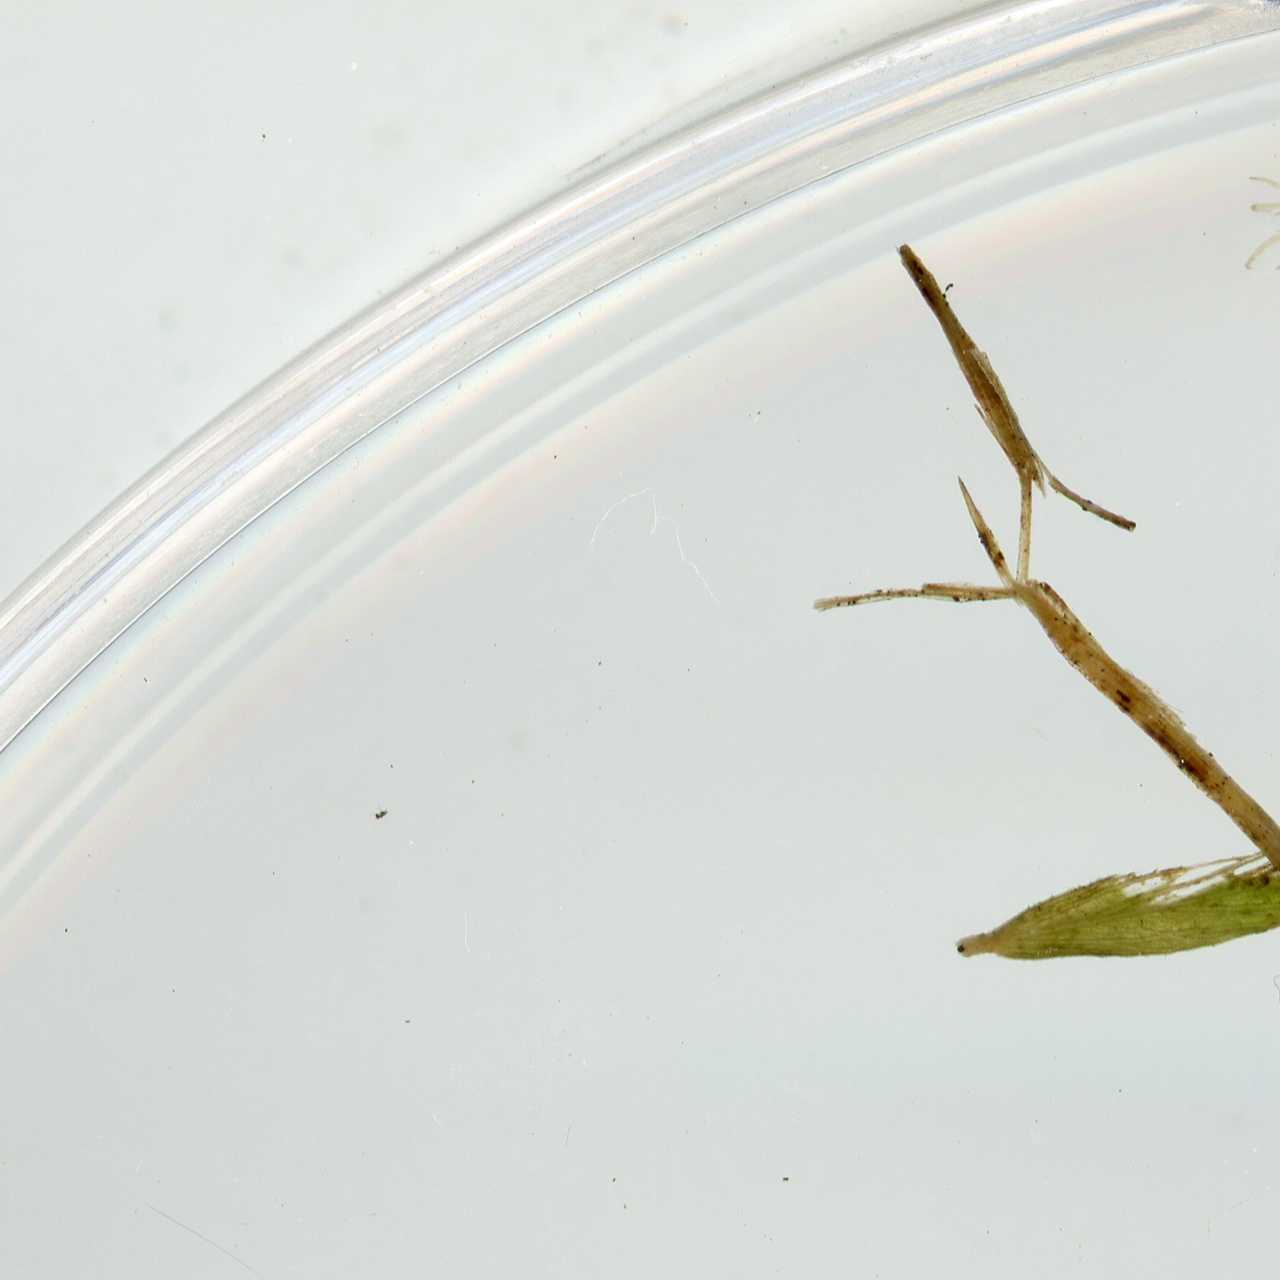arthropod: (1208, 134, 1280, 290)
